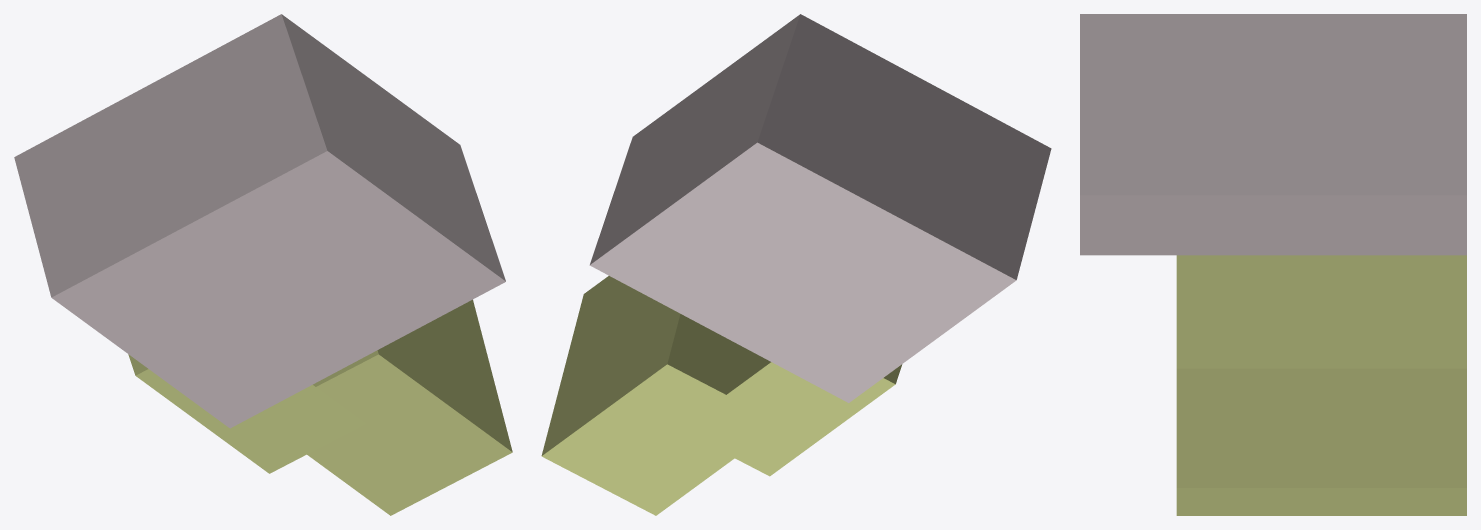
3 renders of one model, left to right at view 1: azimuth 30°, elevation 25°; view 2: azimuth 150°, elevation 25°; view 3: azimuth 270°, elevation 25°, orthographic. The views are drawn at different scales.
Parts seen in each view (by area): view 1: 0_1_0_0_1_0_1_3_3_2; view 2: 0_1_0_0_1_0_1_3_3_2; view 3: 0_1_0_0_1_0_1_3_3_2.
Boxes of the visible parts, x1,y1,x2,y2 form: 0_1_0_0_1_0_1_3_3_2: (14,14,512,515); 0_1_0_0_1_0_1_3_3_2: (541,14,1051,515); 0_1_0_0_1_0_1_3_3_2: (1080,14,1466,515).
Size of the model in its own units: 14.13 by 14.73 by 12.
